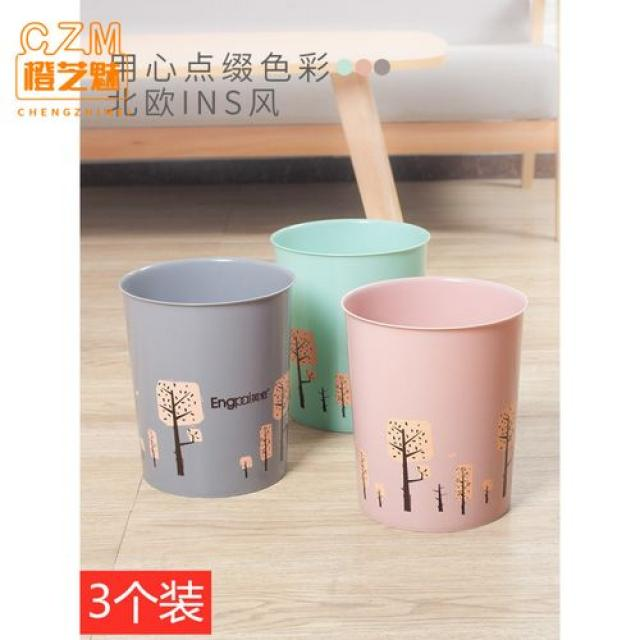dustbin: (340, 274, 530, 539), (120, 256, 298, 503), (270, 218, 442, 441)
